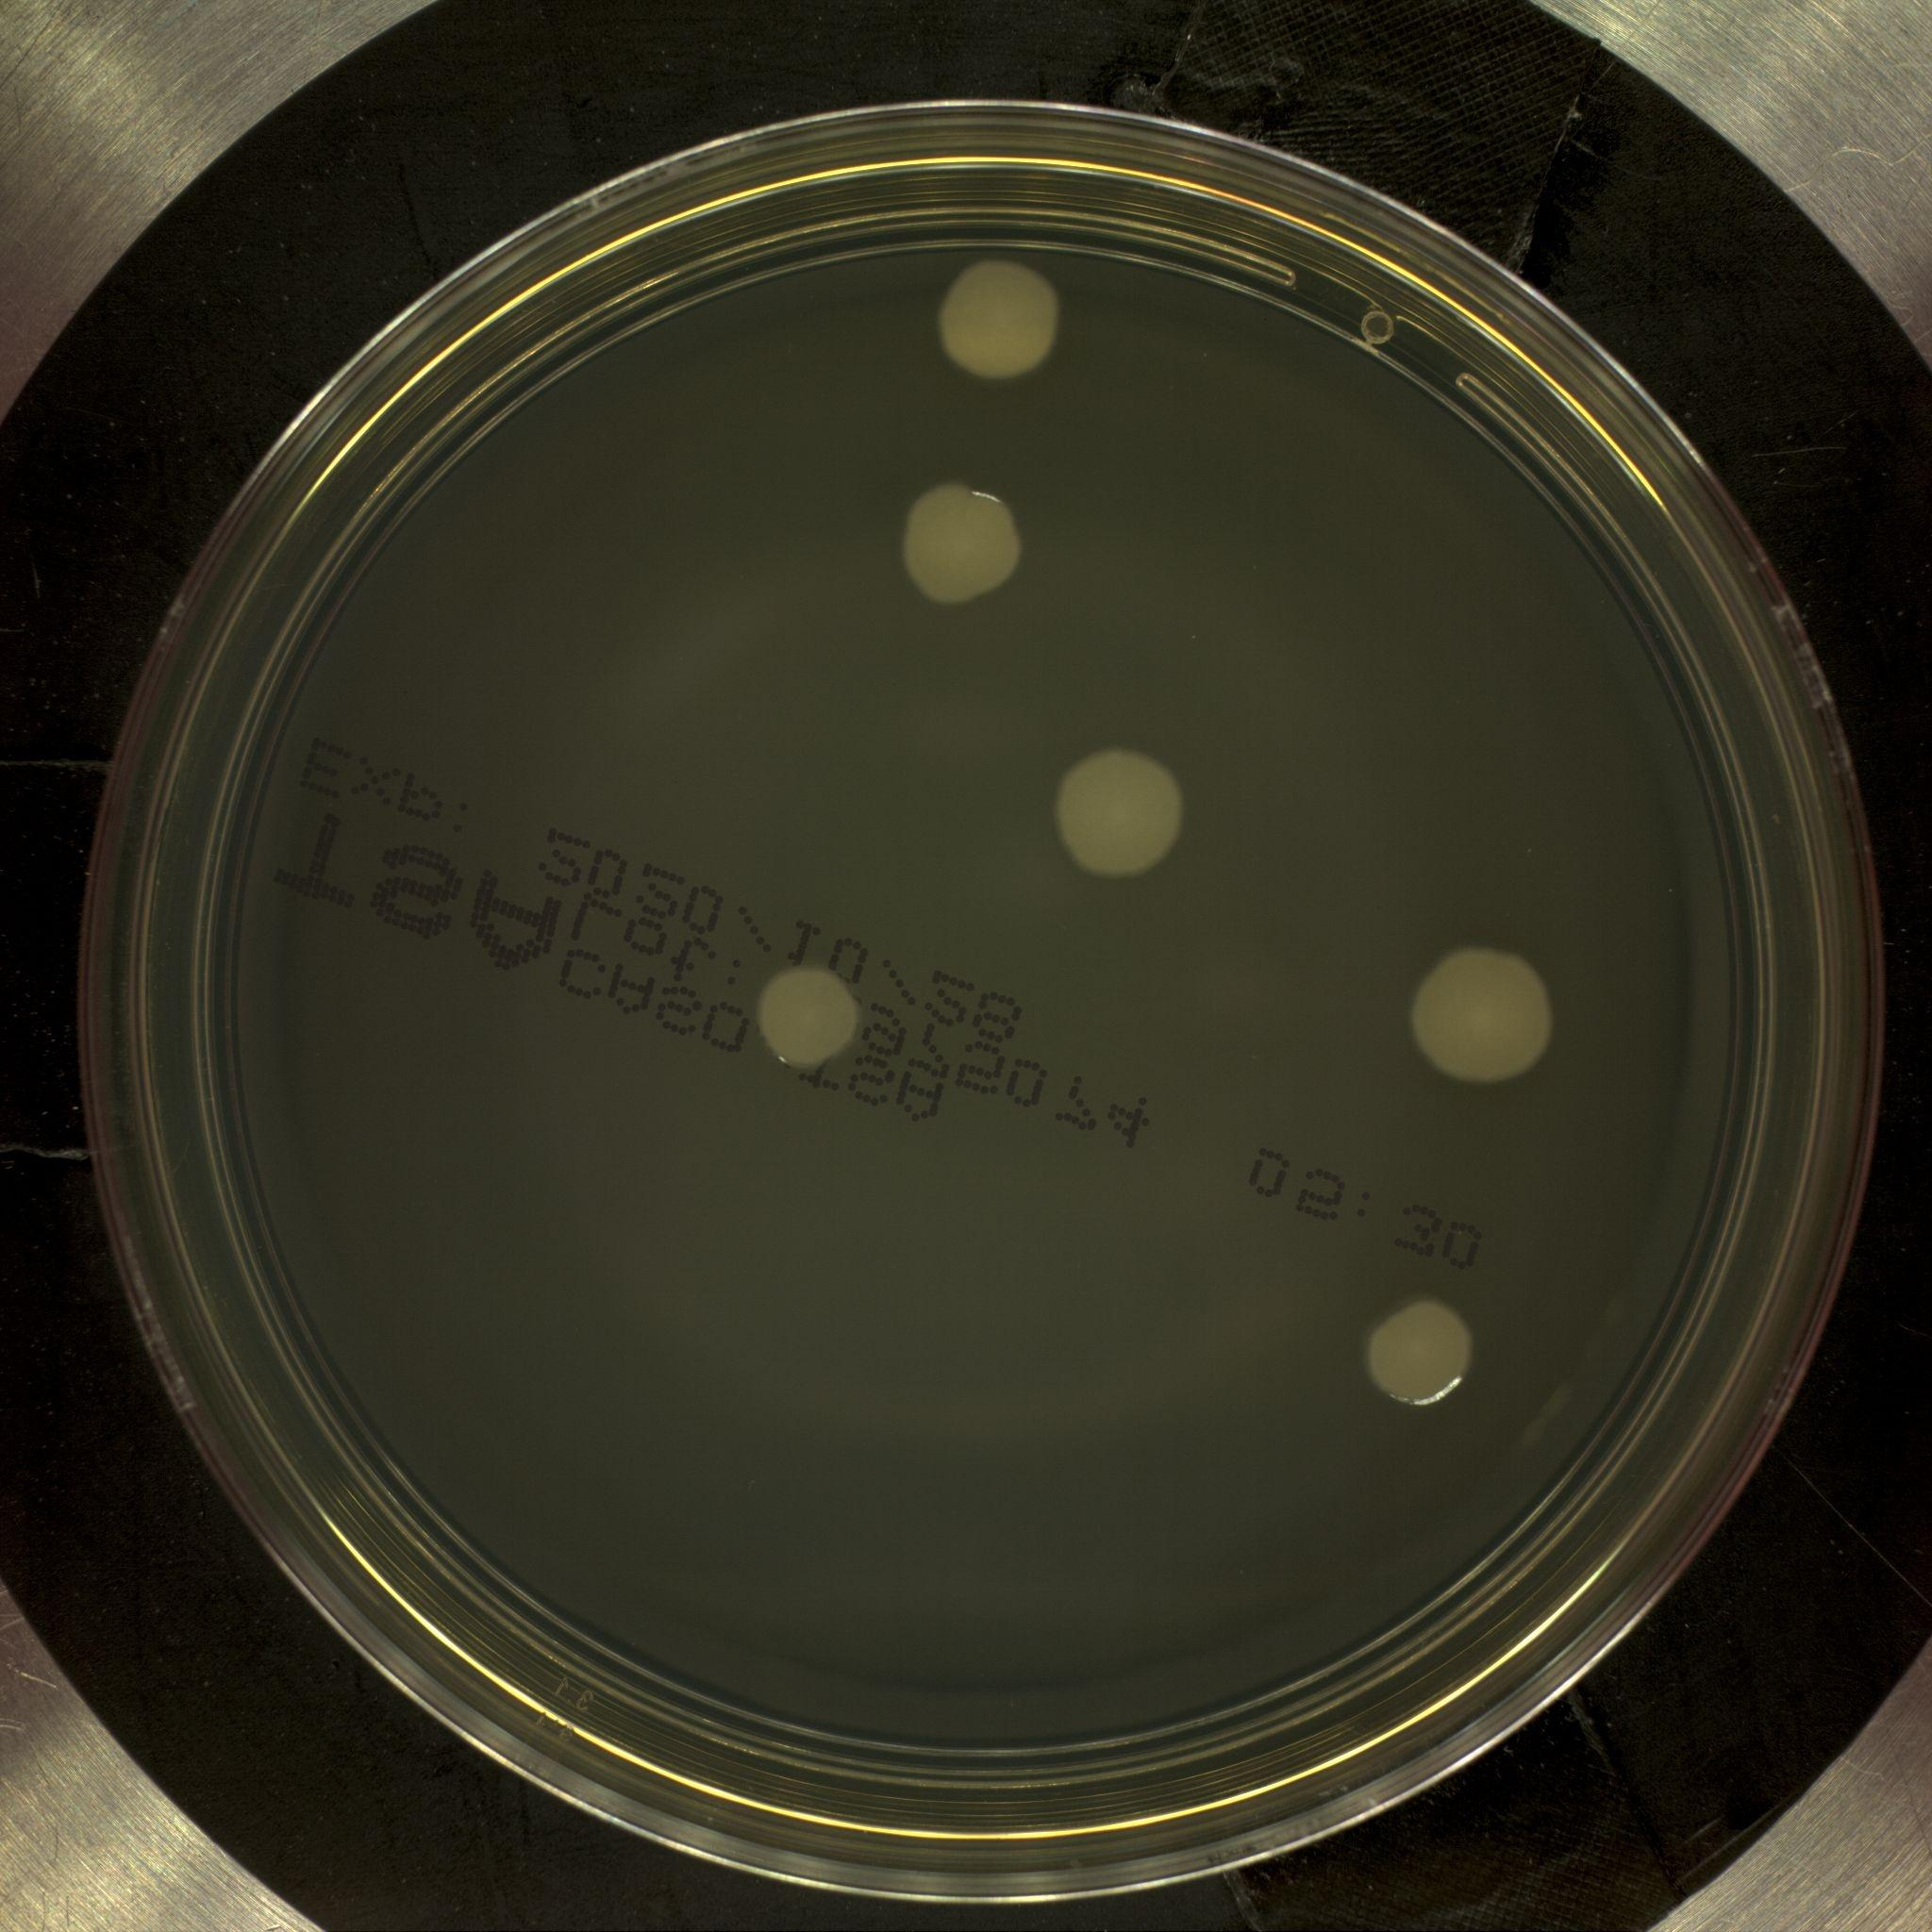e. coli: (1407, 943, 1568, 1095), (888, 472, 1035, 614), (1053, 741, 1194, 883), (936, 249, 1067, 382), (750, 957, 885, 1076), (1359, 1292, 1483, 1415)
